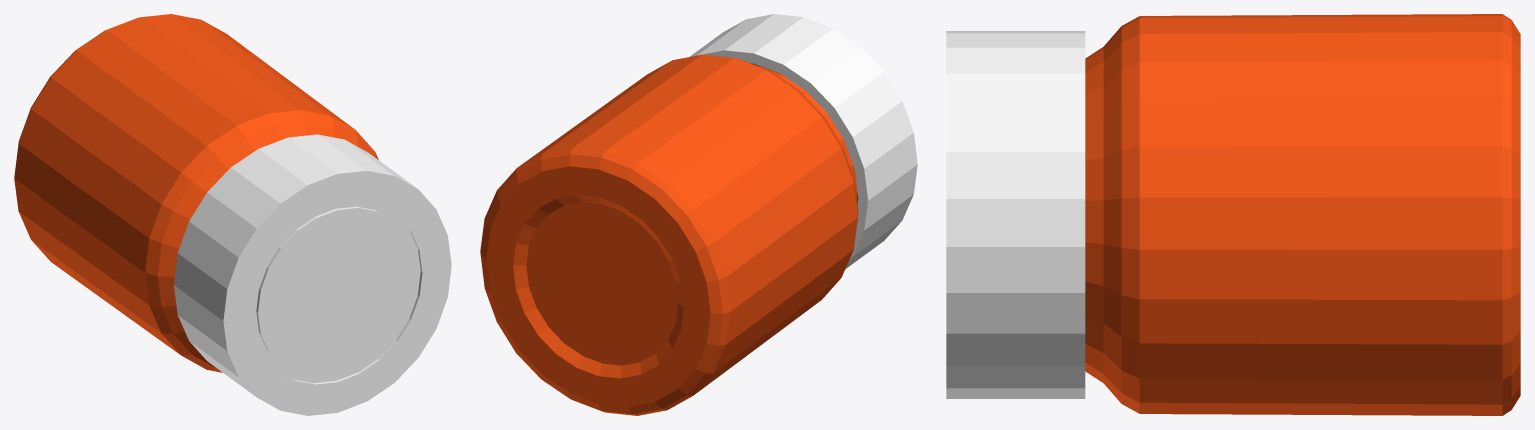
3 renders of one model, left to right at view 1: azimuth 30°, elevation 25°; view 2: azimuth 150°, elevation 25°; view 3: azimuth 270°, elevation 25°, orthographic. The views are drawn at different scales.
Visible parts, largest first — view 1: med bottle; view 2: med bottle; view 3: med bottle.
Part boxes in pixels (x1,y1,x2,y2): med bottle: (14, 14, 451, 415); med bottle: (480, 14, 917, 415); med bottle: (946, 14, 1520, 415).
Size of the model in its own units: 3.34 by 3.34 by 4.75.
